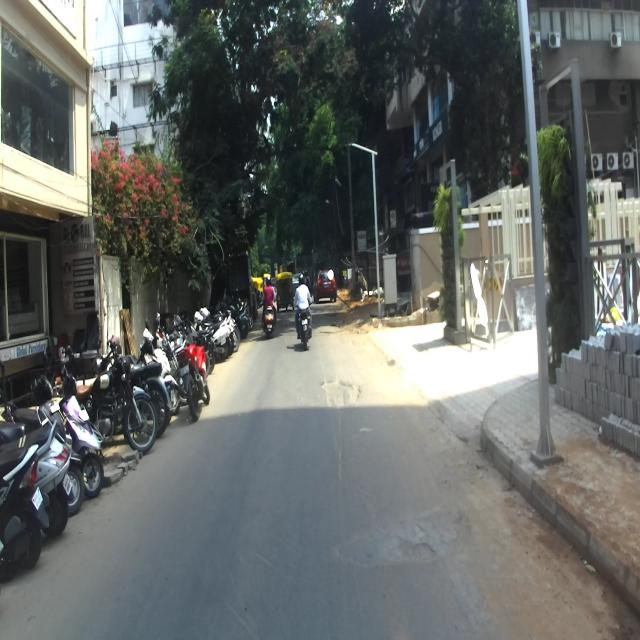motorcycle: (59, 344, 163, 463), (94, 334, 176, 439), (176, 324, 211, 420), (294, 298, 314, 349)
scooter: (1, 351, 85, 515), (0, 418, 69, 541), (56, 342, 104, 498), (0, 446, 50, 574)
